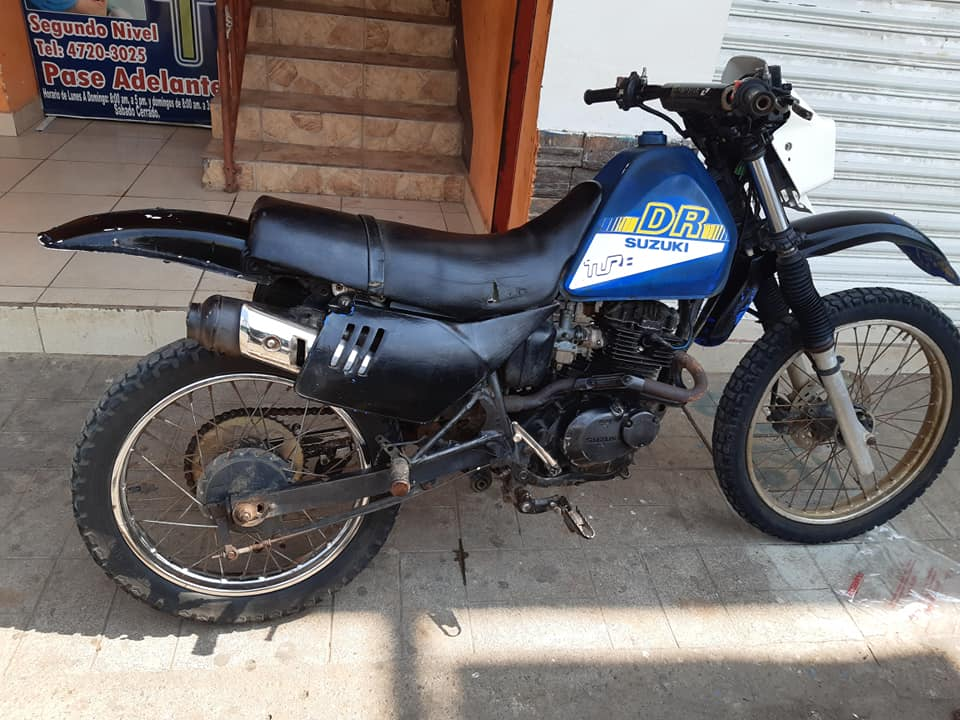moto: (37, 63, 960, 630)
